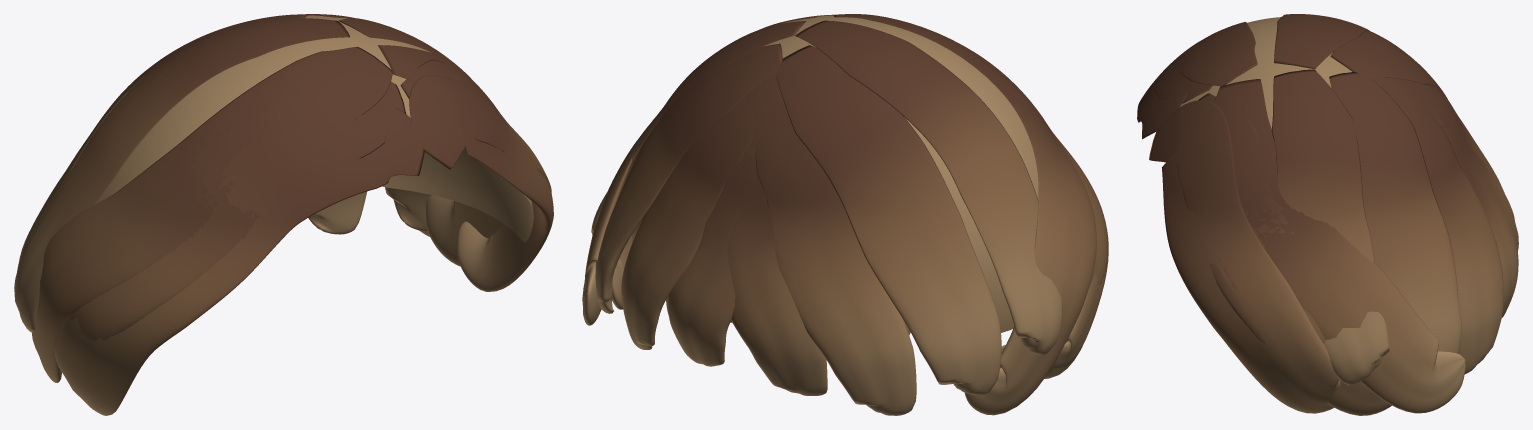
File: Masculine-flow-beanie261-hair-ombre.glb
3 views of the same model, side by side, from view 1: azimuth 30°, elevation 25°; view 2: azimuth 150°, elevation 25°; view 3: azimuth 270°, elevation 25° (orthographic). The views are drawn at different scales.
Visible parts, largest first — view 1: 226 hair / Hair260 / layered flow; view 2: 226 hair / Hair260 / layered flow; view 3: 226 hair / Hair260 / layered flow.
Boxes of the visible parts, left/top/right/bottom form: 226 hair / Hair260 / layered flow: left=14, top=14, right=553, bottom=415; 226 hair / Hair260 / layered flow: left=582, top=14, right=1108, bottom=415; 226 hair / Hair260 / layered flow: left=1137, top=14, right=1518, bottom=415.
Size of the model in its own units: 1.1 by 0.7109 by 0.8189.
